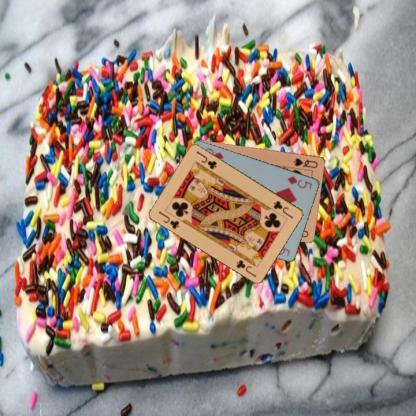5d: (285, 173, 314, 191)
Jc: (271, 198, 295, 220), (156, 209, 181, 230)
Qs: (291, 156, 319, 170)
